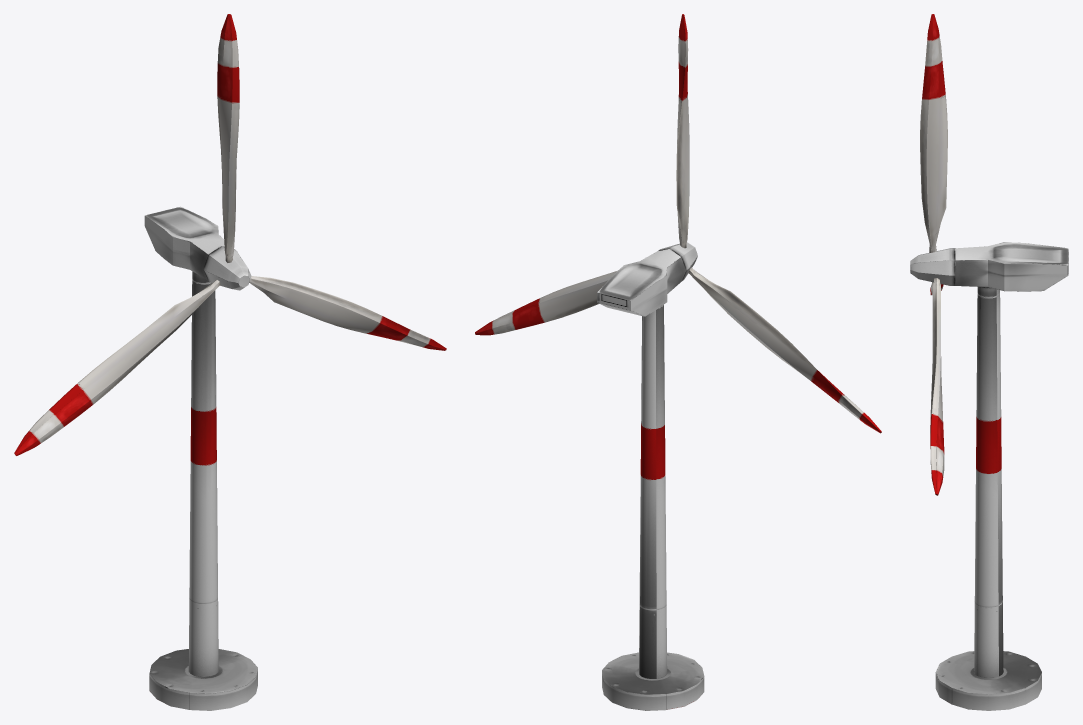
Rendered from wind_turbine.glb.
3 renders of one model, left to right at view 1: azimuth 30°, elevation 25°; view 2: azimuth 150°, elevation 25°; view 3: azimuth 270°, elevation 25°, orthographic. The views are drawn at different scales.
Parts seen in each view (by area): view 1: Cylinder, Cylinder.006, Cylinder.007, Cylinder.004, Cylinder.001; view 2: Cylinder, Cylinder.006, Cylinder.007, Cylinder.004; view 3: Cylinder, Cylinder.004, Cylinder.007, Cylinder.001.
Boxes of the visible parts, box(x1,y1,x2,y2) form: Cylinder: box(144, 206, 257, 710); Cylinder.006: box(14, 280, 220, 455); Cylinder.007: box(249, 276, 446, 350); Cylinder.004: box(217, 14, 239, 262); Cylinder.001: box(203, 246, 251, 290); Cylinder: box(597, 249, 704, 710); Cylinder.006: box(688, 267, 881, 433); Cylinder.007: box(475, 271, 616, 335); Cylinder.004: box(676, 14, 689, 248); Cylinder: box(935, 242, 1068, 710); Cylinder.004: box(920, 14, 947, 252); Cylinder.007: box(930, 278, 944, 495); Cylinder.001: box(910, 248, 954, 285).
Bounding box in the file's own units: 1.92 × 2.96 × 0.6294.
Materials: 1 (1 with a texture image).
